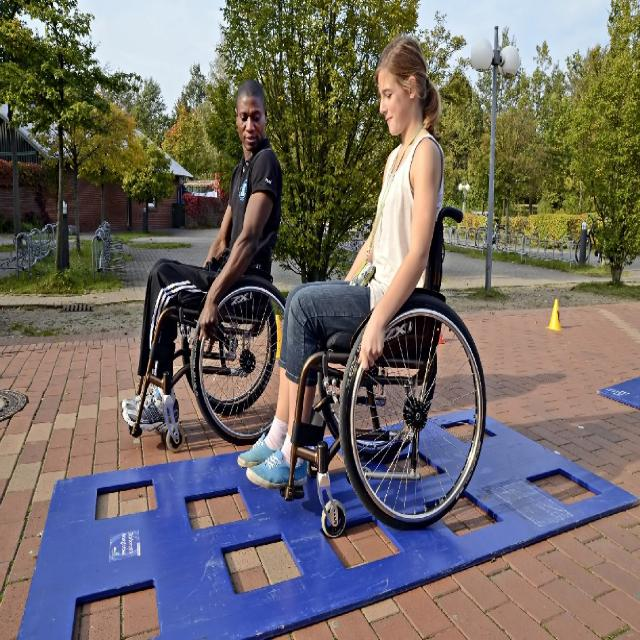wheelchairs: (229, 201, 499, 574), (106, 219, 290, 473)
